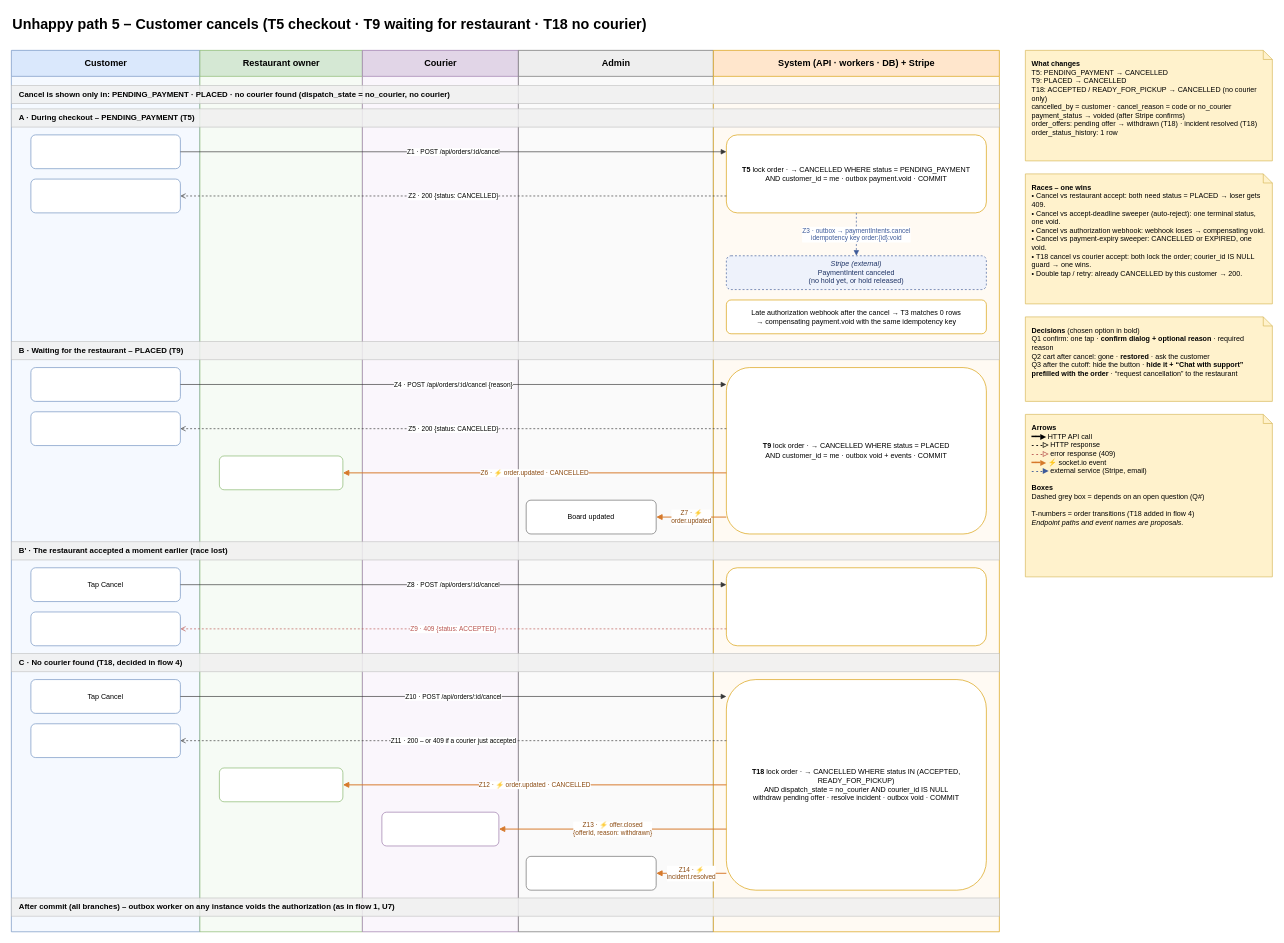
Image size: 1284x943. Some labels were removed from this diagram. Each missing label, with the centre of its shape:
Back to the cart (restored): (105,195)
Guard fails: status is now ACCEPTED 0 rows → ROLLBACK, re-read: (856,606)
Incident resolved: (591,873)
Offer card removed (if one was pending): (440,829)
Order leaves the incoming list, alert sound stops: (281,472)
Tap Cancel → confirm optional reason: (105,384)
Tap “Cancel checkout” (disabled while Stripe.js is confirming): (105,151)
“Cancelled – no courier found”: (281,784)
“Cancelled – not charged”: (105,740)
“Cancelled – you have not been charged”: (105,428)
“The restaurant already started. Need help? Chat with support”: (105,628)
